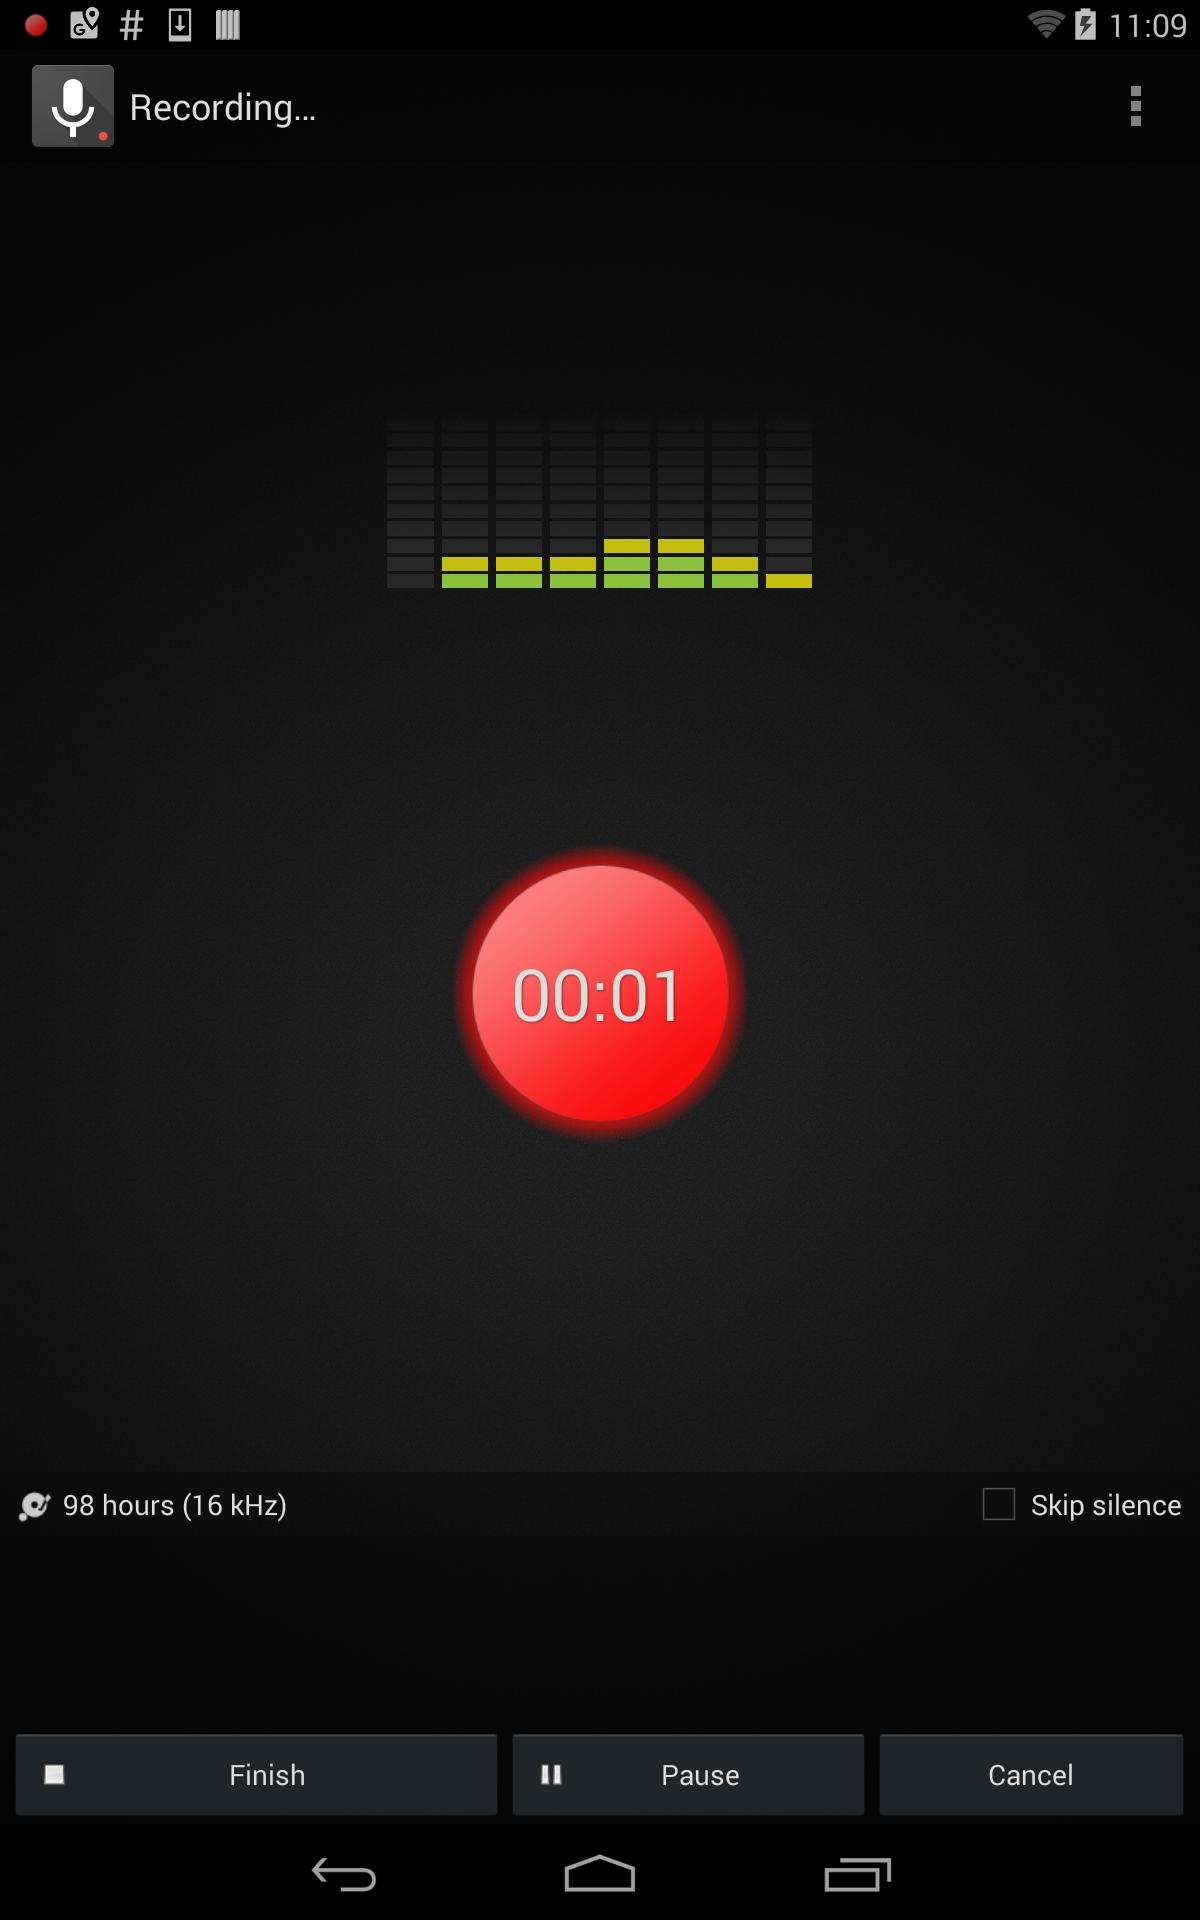android.view.View: (0, 0, 1200, 1825), (0, 1536, 1200, 1715), (0, 50, 1200, 162), (380, 412, 820, 592)
android.widget.Button: (8, 1726, 505, 1822), (505, 1726, 872, 1822), (872, 1726, 1190, 1822)
android.widget.CheckBox: (966, 1472, 1182, 1536)
android.widget.FrameLayout: (0, 0, 1200, 1825), (0, 162, 1200, 1825), (0, 162, 1200, 843), (0, 1536, 1200, 1715), (0, 50, 1200, 162), (17, 50, 129, 162)
android.widget.ImageButton: (1071, 50, 1200, 162)
android.widget.ImageView: (451, 843, 749, 1143), (25, 58, 122, 153)
android.widget.LinearLayout: (0, 1472, 1200, 1825), (0, 1715, 1200, 1825), (17, 50, 333, 162), (1071, 50, 1200, 162), (129, 82, 333, 130)
android.widget.RelativeLayout: (0, 162, 1200, 1825), (0, 843, 1200, 1143), (0, 1472, 1200, 1536)
android.widget.TextView: (512, 944, 688, 1041), (14, 1485, 288, 1527), (129, 82, 317, 130)
